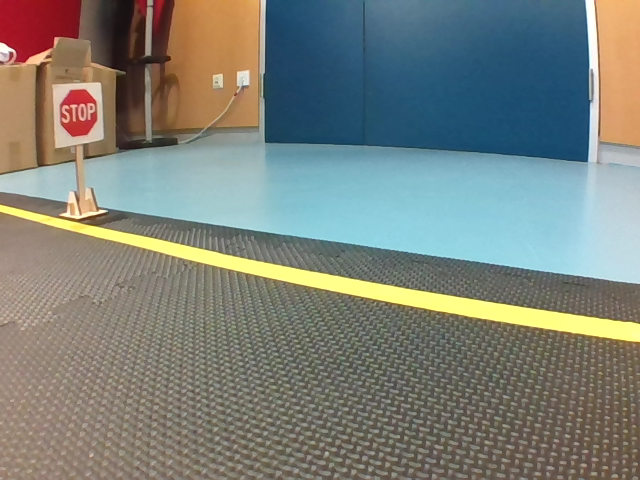no30: (404, 106, 432, 141)
